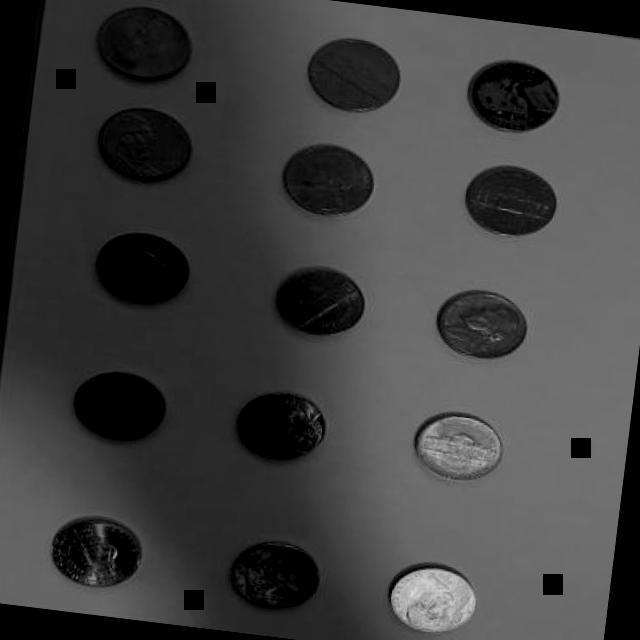Nickel: (81, 0, 201, 88), (294, 26, 406, 119), (61, 363, 172, 452), (454, 51, 562, 142), (90, 100, 198, 188), (218, 534, 326, 622), (428, 284, 532, 373), (225, 385, 328, 474), (401, 404, 503, 489), (44, 507, 144, 593), (455, 157, 557, 240), (275, 139, 377, 222), (266, 260, 368, 342), (86, 225, 189, 306), (380, 559, 479, 640)
